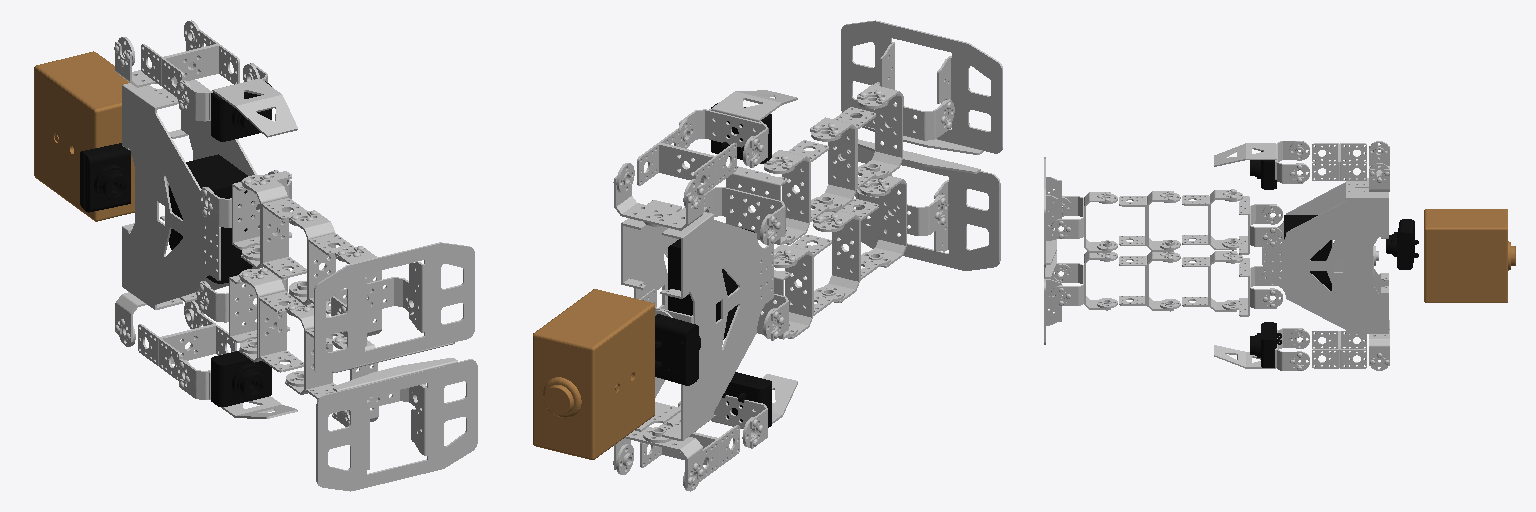
--- Render facts (derived) ---
3 views of the same robot in one strip: view 1: azimuth 30°, elevation 25°; view 2: azimuth 150°, elevation 25°; view 3: azimuth 270°, elevation 25° (orthographic).
Model quadruped with 55 links and 54 joints (17 continuous, 37 fixed), rooted at chassis_center_link, posed all joints at 0.
Links seen in each view (by area): view 1: chassis_center_link, leg13_right_link, leg13_left_link, aiy0_center_link, cam0_center_link, battery_link, cam0_right_link, arm8_left_link, leg5_left_link, arm5_left_link, leg5_right_link, arm5_right_link (+22 smaller); view 2: aiy0_center_link, chassis_center_link, leg13_left_link, leg13_right_link, leg7_left_link, arm7_left_link, leg7_right_link, cam0_center_link, leg10_left_link, leg10_right_link, leg1_left_link, arm2_left_link (+21 smaller); view 3: chassis_center_link, aiy0_center_link, leg13_left_link, leg1_left_link, arm7_left_link, arm7_right_link, cam0_center_link, leg11_right_link, leg11_left_link, arm2_left_link, cam0_right_link, arm8_left_link (+20 smaller).
Boxes of the visible links, x1=… form: chassis_center_link: x1=122, y1=80, x2=259, y2=309; leg13_right_link: x1=316, y1=358, x2=477, y2=491; leg13_left_link: x1=314, y1=242, x2=474, y2=374; aiy0_center_link: x1=34, y1=51, x2=134, y2=221; cam0_center_link: x1=80, y1=143, x2=130, y2=212; battery_link: x1=169, y1=154, x2=252, y2=283; cam0_right_link: x1=211, y1=351, x2=271, y2=406; arm8_left_link: x1=209, y1=78, x2=297, y2=137; leg5_left_link: x1=261, y1=197, x2=306, y2=278; arm5_left_link: x1=162, y1=44, x2=239, y2=96; leg5_right_link: x1=259, y1=291, x2=303, y2=372; arm5_right_link: x1=159, y1=325, x2=236, y2=380; aiy0_center_link: x1=533, y1=289, x2=654, y2=459; chassis_center_link: x1=621, y1=200, x2=773, y2=440; leg13_left_link: x1=841, y1=20, x2=1002, y2=154; leg13_right_link: x1=841, y1=139, x2=1000, y2=270; leg7_left_link: x1=810, y1=117, x2=856, y2=212; arm7_left_link: x1=678, y1=109, x2=768, y2=167; leg7_right_link: x1=813, y1=211, x2=859, y2=302; cam0_center_link: x1=655, y1=314, x2=700, y2=385; leg10_left_link: x1=857, y1=84, x2=903, y2=179; leg10_right_link: x1=860, y1=176, x2=906, y2=267; leg1_left_link: x1=704, y1=187, x2=785, y2=245; arm2_left_link: x1=613, y1=163, x2=703, y2=230; chassis_center_link: x1=1262, y1=178, x2=1388, y2=333; aiy0_center_link: x1=1424, y1=209, x2=1515, y2=302; leg13_left_link: x1=1044, y1=157, x2=1061, y2=267; leg1_left_link: x1=1250, y1=204, x2=1282, y2=246; arm7_left_link: x1=1277, y1=141, x2=1309, y2=183; arm7_right_link: x1=1277, y1=328, x2=1309, y2=370; cam0_center_link: x1=1386, y1=219, x2=1418, y2=269; leg11_right_link: x1=1051, y1=263, x2=1083, y2=305; leg11_left_link: x1=1051, y1=196, x2=1083, y2=238; arm2_left_link: x1=1369, y1=141, x2=1389, y2=191; cam0_right_link: x1=1250, y1=322, x2=1281, y2=367; arm8_left_link: x1=1214, y1=143, x2=1276, y2=179.
Size in the robot's own frame: 0.121 by 0.45 by 0.2214 metres.
Meshes: 11 distinct files referenced, 38 mesh visuals loaded (10 binary STL); not drawn: 17 (reference not matched to a file when rendering).

robot.urdf — quadruped:
<?xml version='1.0'?>
<robot name="quadruped">
    <material name="aluminum"><color rgba="0.8 0.8 0.8 1"/></material>
    <material name="cardboard"><color rgba="0.68 0.5 0.3 1"/></material>
    <material name="plastic"><color rgba="0.1 0.1 0.1 1"/></material>


    

    <link name='chassis_center_link'>
      
      <inertial>
        <origin rpy="0 0 0" xyz="-0.000695 0.064163 -0.000001"/>
	    <mass value="0.098"/>
        <inertia ixx="2.691617e-04" ixy="4.933337e-07" ixz="4.291884e-08" iyy="2.166337e-04" iyz="-7.861271e-09" izz="1.356629e-04"/>
      </inertial>
      

      
	      <visual>
	        <geometry><mesh filename="meshes/SR319-BODY.stl" scale="1 1 1"/></geometry>
	        <material name="aluminum"/>
	      </visual>
      
	
        
       
        <collision name='collision'>
          <origin rpy="0 0 0" xyz="0.020748 0.050843 0.000000"/>
          <laser_retro>0</laser_retro>
          <max_contacts>4</max_contacts>
          <geometry><box size="0.001500 0.121124 0.140800"/></geometry>
        </collision>
        
      

      
    </link>
    
    

    <link name='battery_link'>
      
      <inertial>
        <origin rpy="0 0 0" xyz="0.032819 0.023000 0.019000"/>
	    <mass value="0.210"/>
        <inertia ixx="6.117623e-05" ixy="-3.585922e-12" ixz="-1.051232e-11" iyy="1.000286e-04" iyz="-6.929746e-12" izz="1.129124e-04"/>
      </inertial>
      

      
	      <visual>
	        <geometry><mesh filename="meshes/SR319-BATTERY.stl" scale="1 1 1"/></geometry>
	        <material name="plastic"/>
	      </visual>
      
	
      

      
    </link>
    
    
    

    <link name='head0_center_link'>
      
      <inertial>
        <origin rpy="0 0 0" xyz="-0.000000 0.000009 0.007180"/>
	    <mass value="0.008"/>
        <inertia ixx="8.357953e-07" ixy="9.718290e-17" ixz="8.605056e-09" iyy="2.960480e-06" iyz="-1.207186e-09" izz="2.685580e-06"/>
      </inertial>
      

      
	      <visual>
	        <geometry><mesh filename="meshes/SR319-20x43.stl" scale="1 1 1"/></geometry>
	        <material name="aluminum"/>
	      </visual>
      
	
      

      
    </link>
    
    

    <link name='head1_center_link'>
      
      <inertial>
        <origin rpy="0 0 0" xyz="-0.000000 -0.000000 0.001294"/>
	    <mass value="0.002"/>
        <inertia ixx="5.043949e-08" ixy="-3.062436e-14" ixz="-2.642094e-13" iyy="5.043971e-08" iyz="-1.711337e-16" izz="9.700972e-08"/>
      </inertial>
      

      
	      <visual>
	        <geometry><mesh filename="meshes/SR319-SERVO-ROTOR.stl" scale="1 1 1"/></geometry>
	        <material name="aluminum"/>
	      </visual>
      
	
      

      
    </link>
    
    

    <link name='head2_center_link'>
      
      <inertial>
        <origin rpy="0 0 0" xyz="0.000000 -0.009915 -0.018079"/>
	    <mass value="0.058"/>
        <inertia ixx="1.558414e-05" ixy="-1.729493e-10" ixz="-1.901327e-10" iyy="9.788826e-06" iyz="1.820135e-08" izz="9.495020e-06"/>
      </inertial>
      

      
	      <visual>
	        <geometry><mesh filename="meshes/SR319-SERVO.stl" scale="1 1 1"/></geometry>
	        <material name="plastic"/>
	      </visual>
      
	
      

      
    </link>
    
    

    <link name='cam0_center_link'>
      
      <inertial>
        <origin rpy="0 0 0" xyz="0.000002 0.009285 0.015049"/>
	    <mass value="0.018"/>
        <inertia ixx="1.864125e-06" ixy="7.858595e-11" ixz="-2.642526e-10" iyy="3.262842e-06" iyz="9.471758e-09" izz="2.668717e-06"/>
      </inertial>
      

      
	      <visual>
	        <geometry><mesh filename="meshes/SR319-CAM.stl" scale="1 1 1"/></geometry>
	        <material name="plastic"/>
	      </visual>
      
	
      

      
    </link>
    
    
    

    <link name='aiy0_center_link'>
      
      <inertial>
        <origin rpy="0 0 0" xyz="-0.000000 0.040452 0.000008"/>
	    <mass value="0.050"/>
        <inertia ixx="3.592418e-05" ixy="2.874626e-13" ixz="7.949236e-14" iyy="3.508779e-05" iyz="2.299236e-09" izz="5.357935e-05"/>
      </inertial>
      

      
	      <visual>
	        <geometry><mesh filename="meshes/SR319-AIY.stl" scale="1 1 1"/></geometry>
	        <material name="cardboard"/>
	      </visual>
      
	
      

      
    </link>
    
    
    
    
    
    

    <link name='leg0_left_link'>
      
      <inertial>
        <origin rpy="0 0 0" xyz="0.000000 -0.009915 -0.018079"/>
	    <mass value="0.058"/>
        <inertia ixx="1.558414e-05" ixy="-1.729493e-10" ixz="-1.901327e-10" iyy="9.788826e-06" iyz="1.820135e-08" izz="9.495020e-06"/>
      </inertial>
      

      
	      <visual>
	        <geometry><mesh filename="meshes/SR319-SERVO.stl" scale="1 1 1"/></geometry>
	        <material name="plastic"/>
	      </visual>
      
	
      

      
    </link>
    
    

    <link name='leg1_left_link'>
      
      <inertial>
        <origin rpy="0 0 0" xyz="0.000192 0.010581 -0.016353"/>
	    <mass value="0.012"/>
        <inertia ixx="7.129164e-06" ixy="-1.083228e-08" ixz="-4.791487e-09" iyy="6.357833e-06" iyz="4.792567e-08" izz="1.558394e-06"/>
      </inertial>
      

      
	      <visual>
	        <geometry><mesh filename="meshes/SR319-20x55-ASSEMBLY.stl" scale="1 1 1"/></geometry>
	        <material name="aluminum"/>
	      </visual>
      
	
      

      
    </link>
    
    

    <link name='leg2_left_link'>
      
      <inertial>
        <origin rpy="0 0 0" xyz="-0.000036 -0.000072 0.002238"/>
	    <mass value="0.009"/>
        <inertia ixx="1.294746e-06" ixy="1.679879e-09" ixz="1.077743e-10" iyy="2.234025e-06" iyz="5.007505e-09" izz="3.396097e-06"/>
      </inertial>
      

      
	      <visual>
	        <geometry><mesh filename="meshes/SR319-40x43.stl" scale="1 1 1"/></geometry>
	        <material name="aluminum"/>
	      </visual>
      
	
      

      
    </link>
    
    

    <link name='leg3_left_link'>
      
      <inertial>
        <origin rpy="0 0 0" xyz="0.000000 -0.009915 -0.018079"/>
	    <mass value="0.058"/>
        <inertia ixx="1.558414e-05" ixy="-1.729493e-10" ixz="-1.901327e-10" iyy="9.788826e-06" iyz="1.820135e-08" izz="9.495020e-06"/>
      </inertial>
      

      
	      <visual>
	        <geometry><mesh filename="meshes/SR319-SERVO.stl" scale="1 1 1"/></geometry>
	        <material name="plastic"/>
	      </visual>
      
	
      

      
    </link>
    
    

    <link name='leg4_left_link'>
      
      <inertial>
        <origin rpy="0 0 0" xyz="0.000192 0.010581 -0.016353"/>
	    <mass value="0.012"/>
        <inertia ixx="7.129164e-06" ixy="-1.083228e-08" ixz="-4.791487e-09" iyy="6.357833e-06" iyz="4.792567e-08" izz="1.558394e-06"/>
      </inertial>
      

      
	      <visual>
	        <geometry><mesh filename="meshes/SR319-20x55-ASSEMBLY.stl" scale="1 1 1"/></geometry>
	        <material name="aluminum"/>
	      </visual>
      
	
      

      
    </link>
    
    

    <link name='leg5_left_link'>
      
      <inertial>
        <origin rpy="0 0 0" xyz="-0.000000 0.000009 0.007180"/>
	    <mass value="0.008"/>
        <inertia ixx="8.357953e-07" ixy="9.718290e-17" ixz="8.605056e-09" iyy="2.960480e-06" iyz="-1.207186e-09" izz="2.685580e-06"/>
      </inertial>
      

      
	      <visual>
	        <geometry><mesh filename="meshes/SR319-20x43.stl" scale="1 1 1"/></geometry>
	        <material name="aluminum"/>
	      </visual>
      
	
      

      
    </link>
    
    

    <link name='leg6_left_link'>
      
      <inertial>
        <origin rpy="0 0 0" xyz="0.000000 -0.009915 -0.018079"/>
	    <mass value="0.058"/>
        <inertia ixx="1.558414e-05" ixy="-1.729493e-10" ixz="-1.901327e-10" iyy="9.788826e-06" iyz="1.820135e-08" izz="9.495020e-06"/>
      </inertial>
      

      
	      <visual>
	        <geometry><mesh filename="meshes/SR319-SERVO.stl" scale="1 1 1"/></geometry>
	        <material name="plastic"/>
	      </visual>
      
	
      

      
    </link>
    
    

    <link name='leg7_left_link'>
      
      <inertial>
        <origin rpy="0 0 0" xyz="0.000192 0.010581 -0.016353"/>
	    <mass value="0.012"/>
        <inertia ixx="7.129164e-06" ixy="-1.083228e-08" ixz="-4.791487e-09" iyy="6.357833e-06" iyz="4.792567e-08" izz="1.558394e-06"/>
      </inertial>
      

      
	      <visual>
	        <geometry><mesh filename="meshes/SR319-20x55-ASSEMBLY.stl" scale="1 1 1"/></geometry>
	        <material name="aluminum"/>
	      </visual>
      
	
      

      
    </link>
    
    

    <link name='leg8_left_link'>
      
      <inertial>
        <origin rpy="0 0 0" xyz="-0.000000 0.000009 0.007180"/>
	    <mass value="0.008"/>
        <inertia ixx="8.357953e-07" ixy="9.718290e-17" ixz="8.605056e-09" iyy="2.960480e-06" iyz="-1.207186e-09" izz="2.685580e-06"/>
      </inertial>
      

      
	      <visual>
	        <geometry><mesh filename="meshes/SR319-20x43.stl" scale="1 1 1"/></geometry>
	        <material name="aluminum"/>
	      </visual>
      
	
      

      
    </link>
    
    

    <link name='leg9_left_link'>
      
      <inertial>
        <origin rpy="0 0 0" xyz="0.000000 -0.009915 -0.018079"/>
	    <mass value="0.058"/>
        <inertia ixx="1.558414e-05" ixy="-1.729493e-10" ixz="-1.901327e-10" iyy="9.788826e-06" iyz="1.820135e-08" izz="9.495020e-06"/>
      </inertial>
      

      
	      <visual>
	        <geometry><mesh filename="meshes/SR319-SERVO.stl" scale="1 1 1"/></geometry>
	        <material name="plastic"/>
	      </visual>
      
	
      

      
    </link>
    
    

    <link name='leg10_left_link'>
      
      <inertial>
        <origin rpy="0 0 0" xyz="0.000192 0.010581 -0.016353"/>
	    <mass value="0.012"/>
        <inertia ixx="7.129164e-06" ixy="-1.083228e-08" ixz="-4.791487e-09" iyy="6.357833e-06" iyz="4.792567e-08" izz="1.558394e-06"/>
      </inertial>
      

      
	      <visual>
	        <geometry><mesh filename="meshes/SR319-20x55-ASSEMBLY.stl" scale="1 1 1"/></geometry>
	        <material name="aluminum"/>
	      </visual>
      
	
      

      
    </link>
    
    

    <link name='leg11_left_link'>
      
      <inertial>
        <origin rpy="0 0 0" xyz="0.000192 0.010581 -0.016353"/>
	    <mass value="0.012"/>
        <inertia ixx="7.129164e-06" ixy="-1.083228e-08" ixz="-4.791487e-09" iyy="6.357833e-06" iyz="4.792567e-08" izz="1.558394e-06"/>
      </inertial>
      

      
	      <visual>
	        <geometry><mesh filename="meshes/SR319-20x55-ASSEMBLY.stl" scale="1 1 1"/></geometry>
	        <material name="aluminum"/>
	      </visual>
      
	
      

      
    </link>
    
    

    <link name='leg12_left_link'>
      
      <inertial>
        <origin rpy="0 0 0" xyz="0.000000 -0.009915 -0.018079"/>
	    <mass value="0.058"/>
        <inertia ixx="1.558414e-05" ixy="-1.729493e-10" ixz="-1.901327e-10" iyy="9.788826e-06" iyz="1.820135e-08" izz="9.495020e-06"/>
      </inertial>
      

      
	      <visual>
	        <geometry><mesh filename="meshes/SR319-SERVO.stl" scale="1 1 1"/></geometry>
	        <material name="plastic"/>
	      </visual>
      
	
      

      
    </link>
    
    

    <link name='leg13_left_link'>
      
      <inertial>
        <origin rpy="0 0 0" xyz="-0.000012 0.005081 0.002498"/>
	    <mass value="0.029"/>
        <inertia ixx="1.642369e-05" ixy="1.345898e-10" ixz="2.694190e-09" iyy="3.420054e-05" iyz="-2.365522e-07" izz="4.988287e-05"/>
      </inertial>
      

      
	      <visual>
	        <geometry><mesh filename="meshes/SR319-FEET.stl" scale="1 1 1"/></geometry>
	        <material name="aluminum"/>
	      </visual>
      
	
        
       
        <collision name='collision'>
          <origin rpy="0 0 0" xyz="-0.020850 0.000000 0.009291"/>
          <laser_retro>0</laser_retro>
          <max_contacts>4</max_contacts>
          <geometry><box size="0.001534 0.048000 0.015582"/></geometry>
        </collision>
        
      

      
    </link>
    
    
    
    
    
    
    
    
    
    
    
    
    
    
    
    

    <link name='leg0_right_link'>
      
      <inertial>
        <origin rpy="0 0 0" xyz="0.000000 -0.009915 -0.018079"/>
	    <mass value="0.058"/>
        <inertia ixx="1.558414e-05" ixy="-1.729493e-10" ixz="-1.901327e-10" iyy="9.788826e-06" iyz="1.820135e-08" izz="9.495020e-06"/>
      </inertial>
      

      
	      <visual>
	        <geometry><mesh filename="meshes/SR319-SERVO.stl" scale="1 1 1"/></geometry>
	        <material name="plastic"/>
	      </visual>
      
	
      

      
    </link>
    
    

    <link name='leg1_right_link'>
      
      <inertial>
        <origin rpy="0 0 0" xyz="0.000192 0.010581 -0.016353"/>
	    <mass value="0.012"/>
        <inertia ixx="7.129164e-06" ixy="-1.083228e-08" ixz="-4.791487e-09" iyy="6.357833e-06" iyz="4.792567e-08" izz="1.558394e-06"/>
      </inertial>
      

      
	      <visual>
	        <geometry><mesh filename="meshes/SR319-20x55-ASSEMBLY.stl" scale="1 1 1"/></geometry>
	        <material name="aluminum"/>
	      </visual>
      
	
      

      
    </link>
    
    

    <link name='leg2_right_link'>
      
      <inertial>
        <origin rpy="0 0 0" xyz="-0.000036 -0.000072 0.002238"/>
	    <mass value="0.009"/>
        <inertia ixx="1.294746e-06" ixy="1.679879e-09" ixz="1.077743e-10" iyy="2.234025e-06" iyz="5.007505e-09" izz="3.396097e-06"/>
      </inertial>
      

      
	      <visual>
	        <geometry><mesh filename="meshes/SR319-40x43.stl" scale="1 1 1"/></geometry>
	        <material name="aluminum"/>
	      </visual>
      
	
      

      
    </link>
    
    

    <link name='leg3_right_link'>
      
      <inertial>
        <origin rpy="0 0 0" xyz="0.000000 -0.009915 -0.018079"/>
	    <mass value="0.058"/>
        <inertia ixx="1.558414e-05" ixy="-1.729493e-10" ixz="-1.901327e-10" iyy="9.788826e-06" iyz="1.820135e-08" izz="9.495020e-06"/>
      </inertial>
      

      
	      <visual>
	        <geometry><mesh filename="meshes/SR319-SERVO.stl" scale="1 1 1"/></geometry>
	        <material name="plastic"/>
	      </visual>
      
	
      

      
    </link>
    
    

    <link name='leg4_right_link'>
      
      <inertial>
        <origin rpy="0 0 0" xyz="0.000192 0.010581 -0.016353"/>
	    <mass value="0.012"/>
        <inertia ixx="7.129164e-06" ixy="-1.083228e-08" ixz="-4.791487e-09" iyy="6.357833e-06" iyz="4.792567e-08" izz="1.558394e-06"/>
      </inertial>
      

      
	      <visual>
	        <geometry><mesh filename="meshes/SR319-20x55-ASSEMBLY.stl" scale="1 1 1"/></geometry>
	        <material name="aluminum"/>
	      </visual>
      
	
      

      
    </link>
    
    

    <link name='leg5_right_link'>
      
      <inertial>
        <origin rpy="0 0 0" xyz="-0.000000 0.000009 0.007180"/>
	    <mass value="0.008"/>
        <inertia ixx="8.357953e-07" ixy="9.718290e-17" ixz="8.605056e-09" iyy="2.960480e-06" iyz="-1.207186e-09" izz="2.685580e-06"/>
      </inertial>
      

      
	      <visual>
	        <geometry><mesh filename="meshes/SR319-20x43.stl" scale="1 1 1"/></geometry>
	        <material name="aluminum"/>
	      </visual>
      
	
      

      
    </link>
    
    

    <link name='leg6_right_link'>
      
      <inertial>
        <origin rpy="0 0 0" xyz="0.000000 -0.009915 -0.018079"/>
	    <mass value="0.058"/>
        <inertia ixx="1.558414e-05" ixy="-1.729493e-10" ixz="-1.901327e-10" iyy="9.788826e-06" iyz="1.820135e-08" izz="9.495020e-06"/>
      </inertial>
      

      
	      <visual>
	        <geometry><mesh filename="meshes/SR319-SERVO.stl" scale="1 1 1"/></geometry>
	        <material name="plastic"/>
	      </visual>
      
	
      

      
    </link>
    
    

    <link name='leg7_right_link'>
      
      <inertial>
        <origin rpy="0 0 0" xyz="0.000192 0.010581 -0.016353"/>
	    <mass value="0.012"/>
        <inertia ixx="7.129164e-06" ixy="-1.083228e-08" ixz="-4.791487e-09" iyy="6.357833e-06" iyz="4.792567e-08" izz="1.558394e-06"/>
      </inertial>
      

      
	      <visual>
	        <geometry><mesh filename="meshes/SR319-20x55-ASSEMBLY.stl" scale="1 1 1"/></geometry>
	        <material name="aluminum"/>
	      </visual>
      
	
      

      
    </link>
    
    

    <link name='leg8_right_link'>
      
      <inertial>
        <origin rpy="0 0 0" xyz="-0.000000 0.000009 0.007180"/>
	    <mass value="0.008"/>
        <inertia ixx="8.357953e-07" ixy="9.718290e-17" ixz="8.605056e-09" iyy="2.960480e-06" iyz="-1.207186e-09" izz="2.685580e-06"/>
      </inertial>
      

      
	      <visual>
	        <geometry><mesh filename="meshes/SR319-20x43.stl" scale="1 1 1"/></geometry>
	        <material name="aluminum"/>
	      </visual>
      
	
      

      
    </link>
    
    

    <link name='leg9_right_link'>
      
      <inertial>
        <origin rpy="0 0 0" xyz="0.000000 -0.009915 -0.018079"/>
	    <mass value="0.058"/>
        <inertia ixx="1.558414e-05" ixy="-1.729493e-10" ixz="-1.901327e-10" iyy="9.788826e-06" iyz="1.820135e-08" izz="9.495020e-06"/>
      </inertial>
      

      
	      <visual>
	        <geometry><mesh filename="meshes/SR319-SERVO.stl" scale="1 1 1"/></geometry>
	        <material name="plastic"/>
	      </visual>
      
	
      

      
    </link>
    
    

    <link name='leg10_right_link'>
      
      <inertial>
        <origin rpy="0 0 0" xyz="0.000192 0.010581 -0.016353"/>
	    <mass value="0.012"/>
        <inertia ixx="7.129164e-06" ixy="-1.083228e-08" ixz="-4.791487e-09" iyy="6.357833e-06" iyz="4.792567e-08" izz="1.558394e-06"/>
      </inertial>
      

      
	      <visual>
	        <geometry><mesh filename="meshes/SR319-20x55-ASSEMBLY.stl" scale="1 1 1"/></geometry>
	        <material name="aluminum"/>
	      </visual>
      
	
      

      
    </link>
    
    

    <link name='leg11_right_link'>
      
      <inertial>
        <origin rpy="0 0 0" xyz="0.000192 0.010581 -0.016353"/>
	    <mass value="0.012"/>
        <inertia ixx="7.129164e-06" ixy="-1.083228e-08" ixz="-4.791487e-09" iyy="6.357833e-06" iyz="4.792567e-08" izz="1.558394e-06"/>
      </inertial>
      

      
	      <visual>
	        <geometry><mesh filename="meshes/SR319-20x55-ASSEMBLY.stl" scale="1 1 1"/></geometry>
	        <material name="aluminum"/>
	      </visual>
      
	
      

      
    </link>
    
    

    <link name='leg12_right_link'>
      
      <inertial>
        <origin rpy="0 0 0" xyz="0.000000 -0.009915 -0.018079"/>
	    <mass value="0.058"/>
        <inertia ixx="1.558414e-05" ixy="-1.729493e-10" ixz="-1.901327e-10" iyy="9.788826e-06" iyz="1.820135e-08" izz="9.495020e-06"/>
      </inertial>
      

      
	      <visual>
	        <geometry><mesh filename="meshes/SR319-SERVO.stl" scale="1 1 1"/></geometry>
	        <material name="plastic"/>
	      </visual>
      
	
      

      
    </link>
    
    

    <link name='leg13_right_link'>
      
      <inertial>
        <origin rpy="0 0 0" xyz="-0.000012 0.005081 0.002498"/>
	    <mass value="0.029"/>
        <inertia ixx="1.642369e-05" ixy="1.345898e-10" ixz="2.694190e-09" iyy="3.420054e-05" iyz="-2.365522e-07" izz="4.988287e-05"/>
      </inertial>
      

      
	      <visual>
	        <geometry><mesh filename="meshes/SR319-FEET.stl" scale="1 1 1"/></geometry>
	        <material name="aluminum"/>
	      </visual>
      
	
        
       
        <collision name='collision'>
          <origin rpy="0 0 0" xyz="-0.020850 0.000000 0.009291"/>
          <laser_retro>0</laser_retro>
          <max_contacts>4</max_contacts>
          <geometry><box size="0.001534 0.048000 0.015582"/></geometry>
        </collision>
        
      

      
    </link>
    
    
    
    
    
    
    
    
    
    
    
    
    
    
    
    

    <link name='arm0_left_link'>
      
      <inertial>
        <origin rpy="0 0 0" xyz="0.000000 -0.009915 -0.018079"/>
	    <mass value="0.058"/>
        <inertia ixx="1.558414e-05" ixy="-1.729493e-10" ixz="-1.901327e-10" iyy="9.788826e-06" iyz="1.820135e-08" izz="9.495020e-06"/>
      </inertial>
      

      
	      <visual>
	        <geometry><mesh filename="meshes/SR319-SERVO.stl" scale="1 1 1"/></geometry>
	        <material name="plastic"/>
	      </visual>
      
	
      

      
    </link>
    
    

    <link name='arm1_left_link'>
      
      <inertial>
        <origin rpy="0 0 0" xyz="-0.000000 -0.000000 0.001294"/>
	    <mass value="0.002"/>
        <inertia ixx="5.043949e-08" ixy="-3.062436e-14" ixz="-2.642094e-13" iyy="5.043971e-08" iyz="-1.711337e-16" izz="9.700972e-08"/>
      </inertial>
      

      
	      <visual>
	        <geometry><mesh filename="meshes/SR319-SERVO-ROTOR.stl" scale="1 1 1"/></geometry>
	        <material name="aluminum"/>
	      </visual>
      
	
      

      
    </link>
    
    

    <link name='arm2_left_link'>
      
      <inertial>
        <origin rpy="0 0 0" xyz="0.000192 0.010581 -0.016353"/>
	    <mass value="0.012"/>
        <inertia ixx="7.129164e-06" ixy="-1.083228e-08" ixz="-4.791487e-09" iyy="6.357833e-06" iyz="4.792567e-08" izz="1.558394e-06"/>
      </inertial>
      

      
	      <visual>
	        <geometry><mesh filename="meshes/SR319-20x55-ASSEMBLY.stl" scale="1 1 1"/></geometry>
	        <material name="aluminum"/>
	      </visual>
      
	
      

      
    </link>
    
    

    <link name='arm3_left_link'>
      
      <inertial>
        <origin rpy="0 0 0" xyz="0.000000 -0.009915 -0.018079"/>
	    <mass value="0.058"/>
        <inertia ixx="1.558414e-05" ixy="-1.729493e-10" ixz="-1.901327e-10" iyy="9.788826e-06" iyz="1.820135e-08" izz="9.495020e-06"/>
      </inertial>
      

      
	      <visual>
	        <geometry><mesh filename="meshes/SR319-SERVO.stl" scale="1 1 1"/></geometry>
	        <material name="plastic"/>
	      </visual>
      
	
      

      
    </link>
    
    

    <link name='arm4_left_link'>
      
      <inertial>
        <origin rpy="0 0 0" xyz="-0.000000 0.000009 0.007180"/>
	    <mass value="0.008"/>
        <inertia ixx="8.357953e-07" ixy="9.718290e-17" ixz="8.605056e-09" iyy="2.960480e-06" iyz="-1.207186e-09" izz="2.685580e-06"/>
      </inertial>
      

      
	      <visual>
	        <geometry><mesh filename="meshes/SR319-20x43.stl" scale="1 1 1"/></geometry>
	        <material name="aluminum"/>
	      </visual>
      
	
      

      
    </link>
    
    

    <link name='arm5_left_link'>
      
      <inertial>
        <origin rpy="0 0 0" xyz="-0.000000 0.000009 0.007180"/>
	    <mass value="0.008"/>
        <inertia ixx="8.357953e-07" ixy="9.718290e-17" ixz="8.605056e-09" iyy="2.960480e-06" iyz="-1.207186e-09" izz="2.685580e-06"/>
      </inertial>
      

      
	      <visual>
	        <geometry><mesh filename="meshes/SR319-20x43.stl" scale="1 1 1"/></geometry>
	        <material name="aluminum"/>
	      </visual>
      
	
      

      
    </link>
    
    

    <link name='arm6_left_link'>
      
      <inertial>
        <origin rpy="0 0 0" xyz="0.000000 -0.009915 -0.018079"/>
	    <mass value="0.058"/>
        <inertia ixx="1.558414e-05" ixy="-1.729493e-10" ixz="-1.901327e-10" iyy="9.788826e-06" iyz="1.820135e-08" izz="9.495020e-06"/>
      </inertial>
      

      
	      <visual>
	        <geometry><mesh filename="meshes/SR319-SERVO.stl" scale="1 1 1"/></geometry>
	        <material name="plastic"/>
	      </visual>
      
	
      

      
    </link>
    
    

    <link name='arm7_left_link'>
      
      <inertial>
        <origin rpy="0 0 0" xyz="0.000192 0.010581 -0.016353"/>
	    <mass value="0.012"/>
        <inertia ixx="7.129164e-06" ixy="-1.083228e-08" ixz="-4.791487e-09" iyy="6.357833e-06" iyz="4.792567e-08" izz="1.558394e-06"/>
      </inertial>
      

      
	      <visual>
	        <geometry><mesh filename="meshes/SR319-20x55-ASSEMBLY.stl" scale="1 1 1"/></geometry>
	        <material name="aluminum"/>
	      </visual>
      
	
      

      
    </link>
    
    

    <link name='arm8_left_link'>
      
      <inertial>
        <origin rpy="0 0 0" xyz="0.000000 0.005943 0.019674"/>
	    <mass value="0.01"/>
        <inertia ixx="3.988646e-06" ixy="-3.192255e-12" ixz="2.159262e-09" iyy="4.775230e-06" iyz="-1.564893e-07" izz="1.448142e-06"/>
      </inertial>
      

      
	      <visual>
	        <geometry><mesh filename="meshes/SR319-HOE.stl" scale="1 1 1"/></geometry>
	        <material name="aluminum"/>
	      </visual>
      
	
        
       
        <collision name='collision'>
          <origin rpy="0 0 0" xyz="0.000000 0.000000 0.000750"/>
          <laser_retro>0</laser_retro>
          <max_contacts>4</max_contacts>
          <geometry><box size="0.040165 0.020165 0.001500"/></geometry>
        </collision>
        
      

      
    </link>
    
    

    <link name='cam0_left_link'>
      
      <inertial>
        <origin rpy="0 0 0" xyz="0.000002 0.009285 0.015049"/>
	    <mass value="0.018"/>
        <inertia ixx="1.864125e-06" ixy="7.858595e-11" ixz="-2.642526e-10" iyy="3.262842e-06" iyz="9.471758e-09" izz="2.668717e-06"/>
      </inertial>
      

      
	      <visual>
	        <geometry><mesh filename="meshes/SR319-CAM.stl" scale="1 1 1"/></geometry>
	        <material name="plastic"/>
	      </visual>
      
	
      

      
    </link>
    
    
    
    
    
    
    
    
    
    
    
    

    <link name='arm0_right_link'>
      
      <inertial>
        <origin rpy="0 0 0" xyz="0.000000 -0.009915 -0.018079"/>
	    <mass value="0.058"/>
        <inertia ixx="1.558414e-05" ixy="-1.729493e-10" ixz="-1.901327e-10" iyy="9.788826e-06" iyz="1.820135e-08" izz="9.495020e-06"/>
      </inertial>
      

      
	      <visual>
	        <geometry><mesh filename="meshes/SR319-SERVO.stl" scale="1 1 1"/></geometry>
	        <material name="plastic"/>
	      </visual>
      
	
      

      
    </link>
    
    

    <link name='arm1_right_link'>
      
      <inertial>
        <origin rpy="0 0 0" xyz="-0.000000 -0.000000 0.001294"/>
	    <mass value="0.002"/>
        <inertia ixx="5.043949e-08" ixy="-3.062436e-14" ixz="-2.642094e-13" iyy="5.043971e-08" iyz="-1.711337e-16" izz="9.700972e-08"/>
      </inertial>
      

      
	      <visual>
	        <geometry><mesh filename="meshes/SR319-SERVO-ROTOR.stl" scale="1 1 1"/></geometry>
	        <material name="aluminum"/>
	      </visual>
      
	
      

      
    </link>
    
    

    <link name='arm2_right_link'>
      
      <inertial>
        <origin rpy="0 0 0" xyz="0.000192 0.010581 -0.016353"/>
	    <mass value="0.012"/>
        <inertia ixx="7.129164e-06" ixy="-1.083228e-08" ixz="-4.791487e-09" iyy="6.357833e-06" iyz="4.792567e-08" izz="1.558394e-06"/>
      </inertial>
      

      
	      <visual>
	        <geometry><mesh filename="meshes/SR319-20x55-ASSEMBLY.stl" scale="1 1 1"/></geometry>
	        <material name="aluminum"/>
	      </visual>
      
	
      

      
    </link>
    
    

    <link name='arm3_right_link'>
      
      <inertial>
        <origin rpy="0 0 0" xyz="0.000000 -0.009915 -0.018079"/>
	    <mass value="0.058"/>
        <inertia ixx="1.558414e-05" ixy="-1.729493e-10" ixz="-1.901327e-10" iyy="9.788826e-06" iyz="1.820135e-08" izz="9.495020e-06"/>
      </inertial>
      

      
	      <visual>
	        <geometry><mesh filename="meshes/SR319-SERVO.stl" scale="1 1 1"/></geometry>
	        <material name="plastic"/>
	      </visual>
      
	
      

      
    </link>
    
    

    <link name='arm4_right_link'>
      
      <inertial>
        <origin rpy="0 0 0" xyz="-0.000000 0.000009 0.007180"/>
	    <mass value="0.008"/>
        <inertia ixx="8.357953e-07" ixy="9.718290e-17" ixz="8.605056e-09" iyy="2.960480e-06" iyz="-1.207186e-09" izz="2.685580e-06"/>
      </inertial>
      

      
	      <visual>
	        <geometry><mesh filename="meshes/SR319-20x43.stl" scale="1 1 1"/></geometry>
	        <material name="aluminum"/>
	      </visual>
      
	
      

      
    </link>
    
    

    <link name='arm5_right_link'>
      
      <inertial>
        <origin rpy="0 0 0" xyz="-0.000000 0.000009 0.007180"/>
	    <mass value="0.008"/>
        <inertia ixx="8.357953e-07" ixy="9.718290e-17" ixz="8.605056e-09" iyy="2.960480e-06" iyz="-1.207186e-09" izz="2.685580e-06"/>
      </inertial>
      

      
	      <visual>
	        <geometry><mesh filename="meshes/SR319-20x43.stl" scale="1 1 1"/></geometry>
	        <material name="aluminum"/>
	      </visual>
      
	
      

      
    </link>
    
    

    <link name='arm6_right_link'>
      
      <inertial>
        <origin rpy="0 0 0" xyz="0.000000 -0.009915 -0.018079"/>
	    <mass value="0.058"/>
        <inertia ixx="1.558414e-05" ixy="-1.729493e-10" ixz="-1.901327e-10" iyy="9.788826e-06" iyz="1.820135e-08" izz="9.495020e-06"/>
      </inertial>
      

      
	      <visual>
	        <geometry><mesh filename="meshes/SR319-SERVO.stl" scale="1 1 1"/></geometry>
	        <material name="plastic"/>
	      </visual>
      
	
      

      
    </link>
    
    

    <link name='arm7_right_link'>
      
      <inertial>
        <origin rpy="0 0 0" xyz="0.000192 0.010581 -0.016353"/>
	    <mass value="0.012"/>
        <inertia ixx="7.129164e-06" ixy="-1.083228e-08" ixz="-4.791487e-09" iyy="6.357833e-06" iyz="4.792567e-08" izz="1.558394e-06"/>
      </inertial>
      

      
	      <visual>
	        <geometry><mesh filename="meshes/SR319-20x55-ASSEMBLY.stl" scale="1 1 1"/></geometry>
	        <material name="aluminum"/>
	      </visual>
      
	
      

      
    </link>
    
    

    <link name='arm8_right_link'>
      
      <inertial>
        <origin rpy="0 0 0" xyz="0.000000 0.005943 0.019674"/>
	    <mass value="0.01"/>
        <inertia ixx="3.988646e-06" ixy="-3.192255e-12" ixz="2.159262e-09" iyy="4.775230e-06" iyz="-1.564893e-07" izz="1.448142e-06"/>
      </inertial>
      

      
	      <visual>
	        <geometry><mesh filename="meshes/SR319-HOE.stl" scale="1 1 1"/></geometry>
	        <material name="aluminum"/>
	      </visual>
      
	
        
       
        <collision name='collision'>
          <origin rpy="0 0 0" xyz="0.000000 0.000000 0.000750"/>
          <laser_retro>0</laser_retro>
          <max_contacts>4</max_contacts>
          <geometry><box size="0.040165 0.020165 0.001500"/></geometry>
        </collision>
        
      

      
    </link>
    
    

    <link name='cam0_right_link'>
      
      <inertial>
        <origin rpy="0 0 0" xyz="0.000002 0.009285 0.015049"/>
	    <mass value="0.018"/>
        <inertia ixx="1.864125e-06" ixy="7.858595e-11" ixz="-2.642526e-10" iyy="3.262842e-06" iyz="9.471758e-09" izz="2.668717e-06"/>
      </inertial>
      

      
	      <visual>
	        <geometry><mesh filename="meshes/SR319-CAM.stl" scale="1 1 1"/></geometry>
	        <material name="plastic"/>
	      </visual>
      
	
      

      
    </link>
    
    
    
    
    
    
    
    
    
    
    
    
    



    
      
      
    
      
        <joint name="battery_joint" type="fixed">
 		  <child link="battery_link"/>
 		  <parent link="chassis_center_link"/>
          <origin rpy="0.0 1.570796 0.0" xyz="-0.02 0.011 0.035"/>
		  <axis xyz="0 0 1"/>
		  <limit effort="1.2748" velocity="2.083"/>
          <joint_properties damping="0.0" friction="0.0"/>  
	    </joint>
      
      
    
    
      
        <joint name="head0_center_joint" type="fixed">
 		  <child link="head0_center_link"/>
 		  <parent link="chassis_center_link"/>
          <origin rpy="1.570796 0.0 0.0" xyz="-0.001 0.097 0.0"/>
		  <axis xyz="0 0 1"/>
		  <limit effort="1.2748" velocity="2.083"/>
          <joint_properties damping="0.0" friction="0.0"/>  
	    </joint>
      
      
    
      
        <joint name="head1_center_joint" type="fixed">
 		  <child link="head1_center_link"/>
 		  <parent link="head0_center_link"/>
          <origin rpy="0.0 3.141592 0.0" xyz="0.0 0.0 0.0"/>
		  <axis xyz="0 0 1"/>
		  <limit effort="1.2748" velocity="2.083"/>
          <joint_properties damping="0.0" friction="0.0"/>  
	    </joint>
      
      
    
      
        <joint name="head2_center_joint" type="continuous">
 		  <child link="head2_center_link"/>
 		  <parent link="head1_center_link"/>
          <origin rpy="0.0 3.141592 -1.570796" xyz="0.0 0.0 0.009"/>
		  <axis xyz="0 0 1"/>
		  <limit effort="1.2748" velocity="2.083"/>
          <joint_properties damping="0.0" friction="0.0"/>  
	    </joint>
      
      
    
      
        <joint name="cam0_center_joint" type="fixed">
 		  <child link="cam0_center_link"/>
 		  <parent link="head2_center_link"/>
          <origin rpy="1.5 0.0 0.0" xyz="0.0 0.04 -0.03"/>
		  <axis xyz="0 0 1"/>
		  <limit effort="1.2748" velocity="2.083"/>
          <joint_properties damping="0.0" friction="0.0"/>  
	    </joint>
      
      
    
    
      
        <joint name="aiy0_center_joint" type="fixed">
 		  <child link="aiy0_center_link"/>
 		  <parent link="head2_center_link"/>
          <origin rpy="1.570796 3.141592 0.0" xyz="0.0 0.00 -0.039"/>
		  <axis xyz="0 0 1"/>
		  <limit effort="1.2748" velocity="2.083"/>
          <joint_properties damping="0.0" friction="0.0"/>  
	    </joint>
      
      
    
    
    
    
    
      
        <joint name="leg0_left_joint" type="fixed">
 		  <child link="leg0_left_link"/>
 		  <parent link="chassis_center_link"/>
          <origin rpy="1.570796 0.0 1.570796" xyz="0.018 0.0 0.033"/>
		  <axis xyz="0 0 1"/>
		  <limit effort="1.2748" velocity="2.083"/>
          <joint_properties damping="0.0" friction="0.0"/>  
	    </joint>
      
      
    
      
        <joint name="leg1_left_joint" type="continuous">
 		  <child link="leg1_left_link"/>
 		  <parent link="leg0_left_link"/>
          <origin rpy="0.0 0.0 1.570796" xyz="0.0 0.0 0.0"/>
		  <axis xyz="0 0 1"/>
		  <limit effort="1.2748" velocity="2.083"/>
          <joint_properties damping="0.0" friction="0.0"/>  
	    </joint>
      
      
    
      
        <joint name="leg2_left_joint" type="fixed">
 		  <child link="leg2_left_link"/>
 		  <parent link="leg1_left_link"/>
          <origin rpy="-1.570796 0.0 0.0" xyz="0.000 0.022 -0.017"/>
		  <axis xyz="0 0 1"/>
		  <limit effort="1.2748" velocity="2.083"/>
          <joint_properties damping="0.0" friction="0.0"/>  
	    </joint>
      
      
    
      
        <joint name="leg3_left_joint" type="fixed">
 		  <child link="leg3_left_link"/>
 		  <parent link="leg2_left_link"/>
          <origin rpy="0.0 1.570796 0.0" xyz="0.018 0.010 0.016"/>
		  <axis xyz="0 0 1"/>
		  <limit effort="1.2748" velocity="2.083"/>
          <joint_properties damping="0.0" friction="0.0"/>  
	    </joint>
      
      
    
      
        <joint name="leg4_left_joint" type="continuous">
 		  <child link="leg4_left_link"/>
 		  <parent link="leg3_left_link"/>
          <origin rpy="0.0 0.0 1.570796" xyz="0.0 0.0 0.0"/>
		  <axis xyz="0 0 1"/>
		  <limit effort="1.2748" velocity="2.083"/>
          <joint_properties damping="0.0" friction="0.0"/>  
	    </joint>
      
      
    
      
        <joint name="leg5_left_joint" type="fixed">
 		  <child link="leg5_left_link"/>
 		  <parent link="leg4_left_link"/>
          <origin rpy="0.0 1.570796 1.570796" xyz="0.00 0.022 -0.017"/>
		  <axis xyz="0 0 1"/>
		  <limit effort="1.2748" velocity="2.083"/>
          <joint_properties damping="0.0" friction="0.0"/>  
	    </joint>
      
      
    
      
        <joint name="leg6_left_joint" type="fixed">
 		  <child link="leg6_left_link"/>
 		  <parent link="leg5_left_link"/>
          <origin rpy="1.570796 0.0 1.570796" xyz="0.018 0.00 0.038"/>
		  <axis xyz="0 0 1"/>
		  <limit effort="1.2748" velocity="2.083"/>
          <joint_properties damping="0.0" friction="0.0"/>  
	    </joint>
      
      
    
      
        <joint name="leg7_left_joint" type="continuous">
 		  <child link="leg7_left_link"/>
 		  <parent link="leg6_left_link"/>
          <origin rpy="0.0 0.0 0.0" xyz="0.0 0.0 0.0"/>
		  <axis xyz="0 0 1"/>
		  <limit effort="1.2748" velocity="2.083"/>
          <joint_properties damping="0.0" friction="0.0"/>  
	    </joint>
      
      
    
      
        <joint name="leg8_left_joint" type="fixed">
 		  <child link="leg8_left_link"/>
 		  <parent link="leg7_left_link"/>
          <origin rpy="0.0 1.570796 1.570796" xyz="0.00 0.022 -0.017"/>
		  <axis xyz="0 0 1"/>
		  <limit effort="1.2748" velocity="2.083"/>
          <joint_properties damping="0.0" friction="0.0"/>  
	    </joint>
      
      
    
      
        <joint name="leg9_left_joint" type="fixed">
 		  <child link="leg9_left_link"/>
 		  <parent link="leg8_left_link"/>
          <origin rpy="1.570796 0.0 -1.570796" xyz="-0.018 0.00 0.038"/>
		  <axis xyz="0 0 1"/>
		  <limit effort="1.2748" velocity="2.083"/>
          <joint_properties damping="0.0" friction="0.0"/>  
	    </joint>
      
      
    
      
        <joint name="leg10_left_joint" type="continuous">
 		  <child link="leg10_left_link"/>
 		  <parent link="leg9_left_link"/>
          <origin rpy="0.0 0.0 0.0" xyz="0.0 0.00 0.00"/>
		  <axis xyz="0 0 1"/>
		  <limit effort="1.2748" velocity="2.083"/>
          <joint_properties damping="0.0" friction="0.0"/>  
	    </joint>
      
      
    
      
        <joint name="leg11_left_joint" type="fixed">
 		  <child link="leg11_left_link"/>
 		  <parent link="leg10_left_link"/>
          <origin rpy="0.0 1.570796 3.141592" xyz="-0.02 0.044 -0.02"/>
		  <axis xyz="0 0 1"/>
		  <limit effort="1.2748" velocity="2.083"/>
          <joint_properties damping="0.0" friction="0.0"/>  
	    </joint>
      
      
    
      
        <joint name="leg12_left_joint" type="continuous">
 		  <child link="leg12_left_link"/>
 		  <parent link="leg11_left_link"/>
          <origin rpy="0.0 0.0 1.570796" xyz="0.0 0.0 0.00"/>
		  <axis xyz="0 0 1"/>
		  <limit effort="1.2748" velocity="2.083"/>
          <joint_properties damping="0.0" friction="0.0"/>  
	    </joint>
      
      
    
      
        <joint name="leg13_left_joint" type="fixed">
 		  <child link="leg13_left_link"/>
 		  <parent link="leg12_left_link"/>
          <origin rpy="0.0 1.570796 0.0" xyz="-0.016 -0.01 -0.018"/>
		  <axis xyz="0 0 1"/>
		  <limit effort="1.2748" velocity="2.083"/>
          <joint_properties damping="0.0" friction="0.0"/>  
	    </joint>
      
      
    
    
    
    
    
    
    
    
    
    
    
    
    
    
    
      
        <joint name="leg0_right_joint" type="fixed">
 		  <child link="leg0_right_link"/>
 		  <parent link="chassis_center_link"/>
          <origin rpy="-1.570796 0.0 1.570796" xyz="-0.018 0.0 -0.033"/>
		  <axis xyz="0 0 1"/>
		  <limit effort="1.2748" velocity="2.083"/>
          <joint_properties damping="0.0" friction="0.0"/>  
	    </joint>
      
      
    
      
        <joint name="leg1_right_joint" type="continuous">
 		  <child link="leg1_right_link"/>
 		  <parent link="leg0_right_link"/>
          <origin rpy="0.0 0.0 1.570796" xyz="0.0 0.0 0.0"/>
		  <axis xyz="0 0 1"/>
		  <limit effort="1.2748" velocity="2.083"/>
          <joint_properties damping="0.0" friction="0.0"/>  
	    </joint>
      
      
    
      
        <joint name="leg2_right_joint" type="fixed">
 		  <child link="leg2_right_link"/>
 		  <parent link="leg1_right_link"/>
          <origin rpy="-1.570796 3.141592 0.0" xyz="0.000 0.022 -0.017"/>
		  <axis xyz="0 0 1"/>
		  <limit effort="1.2748" velocity="2.083"/>
          <joint_properties damping="0.0" friction="0.0"/>  
	    </joint>
      
      
    
      
        <joint name="leg3_right_joint" type="fixed">
 		  <child link="leg3_right_link"/>
 		  <parent link="leg2_right_link"/>
          <origin rpy="0.0 1.570796 0.0" xyz="0.018 0.010 0.016"/>
		  <axis xyz="0 0 1"/>
		  <limit effort="1.2748" velocity="2.083"/>
          <joint_properties damping="0.0" friction="0.0"/>  
	    </joint>
      
      
    
      
        <joint name="leg4_right_joint" type="continuous">
 		  <child link="leg4_right_link"/>
 		  <parent link="leg3_right_link"/>
          <origin rpy="0.0 0.0 1.570796" xyz="0.0 0.0 0.0"/>
		  <axis xyz="0 0 1"/>
		  <limit effort="1.2748" velocity="2.083"/>
          <joint_properties damping="0.0" friction="0.0"/>  
	    </joint>
      
      
    
      
        <joint name="leg5_right_joint" type="fixed">
 		  <child link="leg5_right_link"/>
 		  <parent link="leg4_right_link"/>
          <origin rpy="0.0 1.570796 1.570796" xyz="0.00 0.022 -0.017"/>
		  <axis xyz="0 0 1"/>
		  <limit effort="1.2748" velocity="2.083"/>
          <joint_properties damping="0.0" friction="0.0"/>  
	    </joint>
      
      
    
      
        <joint name="leg6_right_joint" type="fixed">
 		  <child link="leg6_right_link"/>
 		  <parent link="leg5_right_link"/>
          <origin rpy="1.570796 0.0 -1.570796" xyz="-0.018 0.00 0.038"/>
		  <axis xyz="0 0 1"/>
		  <limit effort="1.2748" velocity="2.083"/>
          <joint_properties damping="0.0" friction="0.0"/>  
	    </joint>
      
      
    
      
        <joint name="leg7_right_joint" type="continuous">
 		  <child link="leg7_right_link"/>
 		  <parent link="leg6_right_link"/>
          <origin rpy="0.0 0.0 0.0" xyz="0.0 0.0 0.0"/>
		  <axis xyz="0 0 1"/>
		  <limit effort="1.2748" velocity="2.083"/>
          <joint_properties damping="0.0" friction="0.0"/>  
	    </joint>
      
      
    
      
        <joint name="leg8_right_joint" type="fixed">
 		  <child link="leg8_right_link"/>
 		  <parent link="leg7_right_link"/>
          <origin rpy="0.0 1.570796 1.570796" xyz="0.00 0.022 -0.017"/>
		  <axis xyz="0 0 1"/>
		  <limit effort="1.2748" velocity="2.083"/>
          <joint_properties damping="0.0" friction="0.0"/>  
	    </joint>
      
      
    
      
        <joint name="leg9_right_joint" type="fixed">
 		  <child link="leg9_right_link"/>
 		  <parent link="leg8_right_link"/>
          <origin rpy="1.570796 0.0 -1.570796" xyz="-0.018 0.00 0.038"/>
		  <axis xyz="0 0 1"/>
		  <limit effort="1.2748" velocity="2.083"/>
          <joint_properties damping="0.0" friction="0.0"/>  
	    </joint>
      
      
    
      
        <joint name="leg10_right_joint" type="continuous">
 		  <child link="leg10_right_link"/>
 		  <parent link="leg9_right_link"/>
          <origin rpy="0.0 0.0 0.0" xyz="0.0 0.00 0.00"/>
		  <axis xyz="0 0 1"/>
		  <limit effort="1.2748" velocity="2.083"/>
          <joint_properties damping="0.0" friction="0.0"/>  
	    </joint>
      
      
    
      
        <joint name="leg11_right_joint" type="fixed">
 		  <child link="leg11_right_link"/>
 		  <parent link="leg10_right_link"/>
          <origin rpy="0.0 1.570796 3.141592" xyz="-0.02 0.044 -0.02"/>
		  <axis xyz="0 0 1"/>
		  <limit effort="1.2748" velocity="2.083"/>
          <joint_properties damping="0.0" friction="0.0"/>  
	    </joint>
      
      
    
      
        <joint name="leg12_right_joint" type="continuous">
 		  <child link="leg12_right_link"/>
 		  <parent link="leg11_right_link"/>
          <origin rpy="0.0 0.0 1.570796" xyz="0.0 0.0 0.00"/>
		  <axis xyz="0 0 1"/>
		  <limit effort="1.2748" velocity="2.083"/>
          <joint_properties damping="0.0" friction="0.0"/>  
	    </joint>
      
      
    
      
        <joint name="leg13_right_joint" type="fixed">
 		  <child link="leg13_right_link"/>
 		  <parent link="leg12_right_link"/>
          <origin rpy="0.0 1.570796 0.0" xyz="-0.016 -0.01 -0.018"/>
		  <axis xyz="0 0 1"/>
		  <limit effort="1.2748" velocity="2.083"/>
          <joint_properties damping="0.0" friction="0.0"/>  
	    </joint>
      
      
    
    
    
    
    
    
    
    
    
    
    
    
    
    
    
      
        <joint name="arm0_left_joint" type="fixed">
 		  <child link="arm0_left_link"/>
 		  <parent link="chassis_center_link"/>
          <origin rpy="0.0 0.0 0.0" xyz="-0.001 0.102 0.0682"/>
		  <axis xyz="0 0 1"/>
		  <limit effort="1.2748" velocity="2.083"/>
          <joint_properties damping="0.0" friction="0.0"/>  
	    </joint>
      
      
    
      
        <joint name="arm1_left_joint" type="continuous">
 		  <child link="arm1_left_link"/>
 		  <parent link="arm0_left_link"/>
          <origin rpy="3.141592 0.0 1.570796" xyz="0.0 0.0 0.009"/>
		  <axis xyz="0 0 1"/>
		  <limit effort="1.2748" velocity="2.083"/>
          <joint_properties damping="0.0" friction="0.0"/>  
	    </joint>
      
      
    
      
        <joint name="arm2_left_joint" type="fixed">
 		  <child link="arm2_left_link"/>
 		  <parent link="arm1_left_link"/>
          <origin rpy="1.570796 0.0 0.0" xyz="0.0 -0.0169 -0.022"/>
		  <axis xyz="0 0 1"/>
		  <limit effort="1.2748" velocity="2.083"/>
          <joint_properties damping="0.0" friction="0.0"/>  
	    </joint>
      
      
    
      
        <joint name="arm3_left_joint" type="continuous">
 		  <child link="arm3_left_link"/>
 		  <parent link="arm2_left_link"/>
          <origin rpy="0.0 0.0 -1.570796" xyz="0.0 0.0 0.00"/>
		  <axis xyz="0 0 1"/>
		  <limit effort="1.2748" velocity="2.083"/>
          <joint_properties damping="0.0" friction="0.0"/>  
	    </joint>
      
      
    
      
        <joint name="arm4_left_joint" type="fixed">
 		  <child link="arm4_left_link"/>
 		  <parent link="arm3_left_link"/>
          <origin rpy="0.0 1.570796 1.570796" xyz="0.00 -0.038 -0.018"/>
		  <axis xyz="0 0 1"/>
		  <limit effort="1.2748" velocity="2.083"/>
          <joint_properties damping="0.0" friction="0.0"/>  
	    </joint>
      
      
    
      
        <joint name="arm5_left_joint" type="fixed">
 		  <child link="arm5_left_link"/>
 		  <parent link="arm4_left_link"/>
          <origin rpy="0.0 3.141592 0.0" xyz="0.00 0.00 0.00"/>
		  <axis xyz="0 0 1"/>
		  <limit effort="1.2748" velocity="2.083"/>
          <joint_properties damping="0.0" friction="0.0"/>  
	    </joint>
      
      
    
      
        <joint name="arm6_left_joint" type="fixed">
 		  <child link="arm6_left_link"/>
 		  <parent link="arm5_left_link"/>
          <origin rpy="1.570796 0.0 1.570796" xyz="0.018 0.0 0.038"/>
		  <axis xyz="0 0 1"/>
		  <limit effort="1.2748" velocity="2.083"/>
          <joint_properties damping="0.0" friction="0.0"/>  
	    </joint>
      
      
    
      
        <joint name="arm7_left_joint" type="continuous">
 		  <child link="arm7_left_link"/>
 		  <parent link="arm6_left_link"/>
          <origin rpy="0.0 0.0 0.0" xyz="0.0 0.00 0.00"/>
		  <axis xyz="0 0 1"/>
		  <limit effort="1.2748" velocity="2.083"/>
          <joint_properties damping="0.0" friction="0.0"/>  
	    </joint>
      
      
    
      
        <joint name="arm8_left_joint" type="fixed">
 		  <child link="arm8_left_link"/>
 		  <parent link="arm7_left_link"/>
          <origin rpy="0.0 1.570796 1.570796" xyz="0.0 0.022 -0.017"/>
		  <axis xyz="0 0 1"/>
		  <limit effort="1.2748" velocity="2.083"/>
          <joint_properties damping="0.0" friction="0.0"/>  
	    </joint>
      
      
    
      
        <joint name="cam0_left_joint" type="fixed">
 		  <child link="cam0_left_link"/>
 		  <parent link="arm8_left_link"/>
          <origin rpy="1.570796 0.0 0.0" xyz="0.0 0.01 0.0"/>
		  <axis xyz="0 0 1"/>
		  <limit effort="1.2748" velocity="2.083"/>
          <joint_properties damping="0.0" friction="0.0"/>  
	    </joint>
      
      
    
    
    
    
    
    
    
    
    
    
    
      
        <joint name="arm0_right_joint" type="fixed">
 		  <child link="arm0_right_link"/>
 		  <parent link="chassis_center_link"/>
          <origin rpy="0.0 3.141592 0.0" xyz="-0.001 0.102 -0.0682"/>
		  <axis xyz="0 0 1"/>
		  <limit effort="1.2748" velocity="2.083"/>
          <joint_properties damping="0.0" friction="0.0"/>  
	    </joint>
      
      
    
      
        <joint name="arm1_right_joint" type="continuous">
 		  <child link="arm1_right_link"/>
 		  <parent link="arm0_right_link"/>
          <origin rpy="3.141592 0.0 1.570796" xyz="0.0 0.0 0.009"/>
		  <axis xyz="0 0 1"/>
		  <limit effort="1.2748" velocity="2.083"/>
          <joint_properties damping="0.0" friction="0.0"/>  
	    </joint>
      
      
    
      
        <joint name="arm2_right_joint" type="fixed">
 		  <child link="arm2_right_link"/>
 		  <parent link="arm1_right_link"/>
          <origin rpy="1.570796 0.0 0.0" xyz="0.0 -0.0169 -0.022"/>
		  <axis xyz="0 0 1"/>
		  <limit effort="1.2748" velocity="2.083"/>
          <joint_properties damping="0.0" friction="0.0"/>  
	    </joint>
      
      
    
      
        <joint name="arm3_right_joint" type="continuous">
 		  <child link="arm3_right_link"/>
 		  <parent link="arm2_right_link"/>
          <origin rpy="0.0 0.0 -1.570796" xyz="0.0 0.0 0.00"/>
		  <axis xyz="0 0 1"/>
		  <limit effort="1.2748" velocity="2.083"/>
          <joint_properties damping="0.0" friction="0.0"/>  
	    </joint>
      
      
    
      
        <joint name="arm4_right_joint" type="fixed">
 		  <child link="arm4_right_link"/>
 		  <parent link="arm3_right_link"/>
          <origin rpy="0.0 1.570796 1.570796" xyz="0.00 -0.038 -0.018"/>
		  <axis xyz="0 0 1"/>
		  <limit effort="1.2748" velocity="2.083"/>
          <joint_properties damping="0.0" friction="0.0"/>  
	    </joint>
      
      
    
      
        <joint name="arm5_right_joint" type="fixed">
 		  <child link="arm5_right_link"/>
 		  <parent link="arm4_right_link"/>
          <origin rpy="0.0 3.141592 0.0" xyz="0.00 0.00 0.00"/>
		  <axis xyz="0 0 1"/>
		  <limit effort="1.2748" velocity="2.083"/>
          <joint_properties damping="0.0" friction="0.0"/>  
	    </joint>
      
      
    
      
        <joint name="arm6_right_joint" type="fixed">
 		  <child link="arm6_right_link"/>
 		  <parent link="arm5_right_link"/>
          <origin rpy="1.570796 0.0 1.570796" xyz="0.018 0.0 0.038"/>
		  <axis xyz="0 0 1"/>
		  <limit effort="1.2748" velocity="2.083"/>
          <joint_properties damping="0.0" friction="0.0"/>  
	    </joint>
      
      
    
      
        <joint name="arm7_right_joint" type="continuous">
 		  <child link="arm7_right_link"/>
 		  <parent link="arm6_right_link"/>
          <origin rpy="0.0 0.0 0.0" xyz="0.0 0.00 0.00"/>
		  <axis xyz="0 0 1"/>
		  <limit effort="1.2748" velocity="2.083"/>
          <joint_properties damping="0.0" friction="0.0"/>  
	    </joint>
      
      
    
      
        <joint name="arm8_right_joint" type="fixed">
 		  <child link="arm8_right_link"/>
 		  <parent link="arm7_right_link"/>
          <origin rpy="0.0 1.570796 1.570796" xyz="0.0 0.022 -0.017"/>
		  <axis xyz="0 0 1"/>
		  <limit effort="1.2748" velocity="2.083"/>
          <joint_properties damping="0.0" friction="0.0"/>  
	    </joint>
      
      
    
      
        <joint name="cam0_right_joint" type="fixed">
 		  <child link="cam0_right_link"/>
 		  <parent link="arm8_right_link"/>
          <origin rpy="1.570796 0.0 0.0" xyz="0.0 0.01 0.0"/>
		  <axis xyz="0 0 1"/>
		  <limit effort="1.2748" velocity="2.083"/>
          <joint_properties damping="0.0" friction="0.0"/>  
	    </joint>
      
      
    
    
    
    
    
    
    
    
    
    
    
    

</robot>
